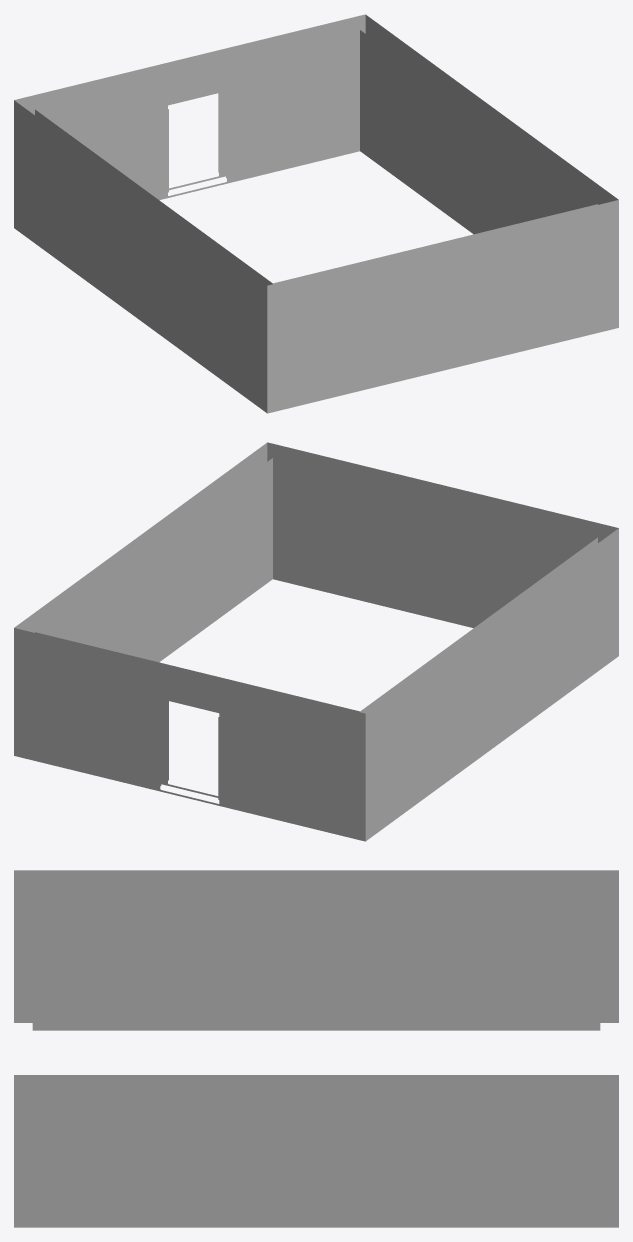
The model's file is WindowlessWalls.fbx.
The picture shows the model from 3 angles, top to bottom: view 1: azimuth 30°, elevation 25°; view 2: azimuth 150°, elevation 25°; view 3: azimuth 270°, elevation 25°; orthographic projection. The views are drawn at different scales.
Parts seen in each view (by area): view 1: H_A_Wall; view 2: H_A_Wall; view 3: H_A_Wall.
Boxes of the visible parts, bbox=[...] form: H_A_Wall: bbox=[14, 14, 618, 413]; H_A_Wall: bbox=[14, 442, 618, 841]; H_A_Wall: bbox=[14, 870, 618, 1227].
Bounding box in the file's own units: 901 × 314 × 1126.
